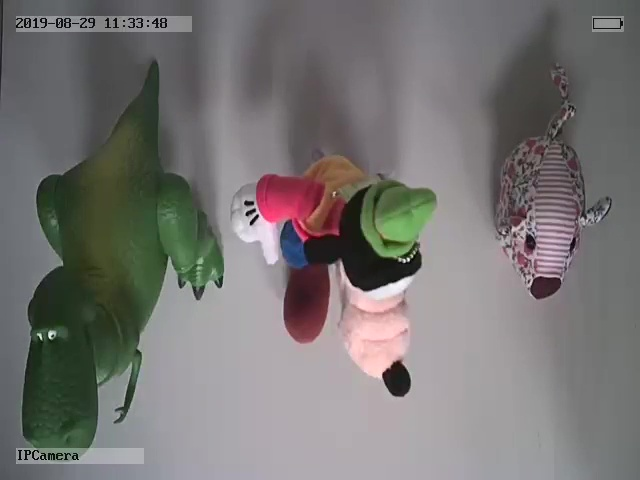goofy: (231, 154, 436, 399)
pig: (493, 63, 611, 299)
rex: (21, 59, 224, 449)
